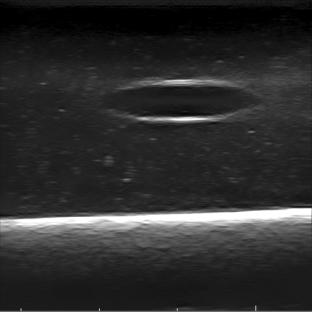vessel: (107, 79, 259, 125)
